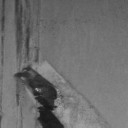slag inclusion: (13, 64, 66, 128), (48, 61, 102, 118), (13, 0, 41, 69), (0, 0, 6, 66)
